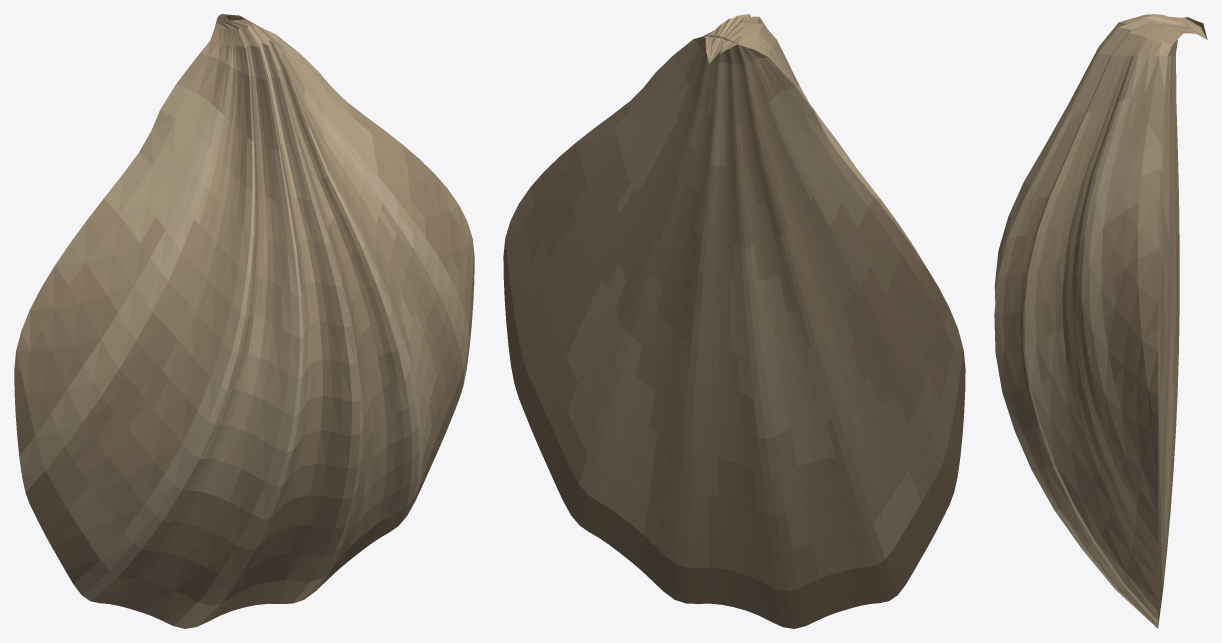
File: neithea.glb
The picture shows the model from 3 angles, left to right: view 1: azimuth 30°, elevation 25°; view 2: azimuth 150°, elevation 25°; view 3: azimuth 270°, elevation 25°; orthographic projection.
Visible parts, largest first — view 1: Neithea paired valve envelope; view 2: Neithea paired valve envelope; view 3: Neithea paired valve envelope.
Boxes of the visible parts, bbox=[...] form: Neithea paired valve envelope: bbox=[14, 14, 474, 628]; Neithea paired valve envelope: bbox=[503, 14, 965, 628]; Neithea paired valve envelope: bbox=[994, 14, 1207, 628].
Bounding box in the file's own units: 0.0122 × 0.015 × 0.00495.
